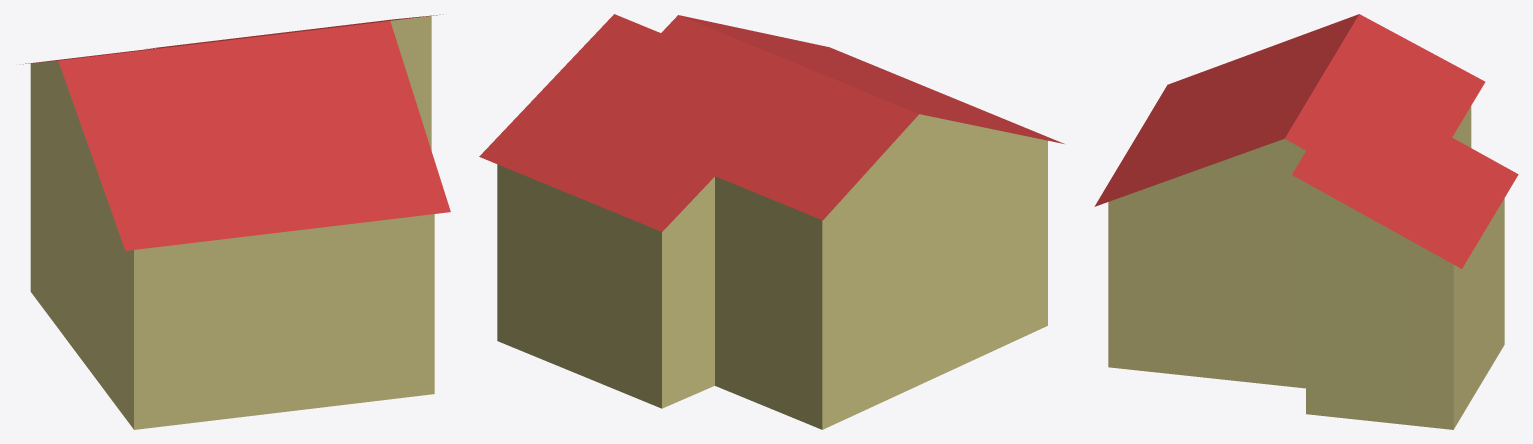
3 views of the same model, side by side, from view 1: azimuth 30°, elevation 25°; view 2: azimuth 150°, elevation 25°; view 3: azimuth 270°, elevation 25° (orthographic). The views are drawn at different scales.
Bounding box in the file's own units: 19.04 × 18.23 × 11.97.
